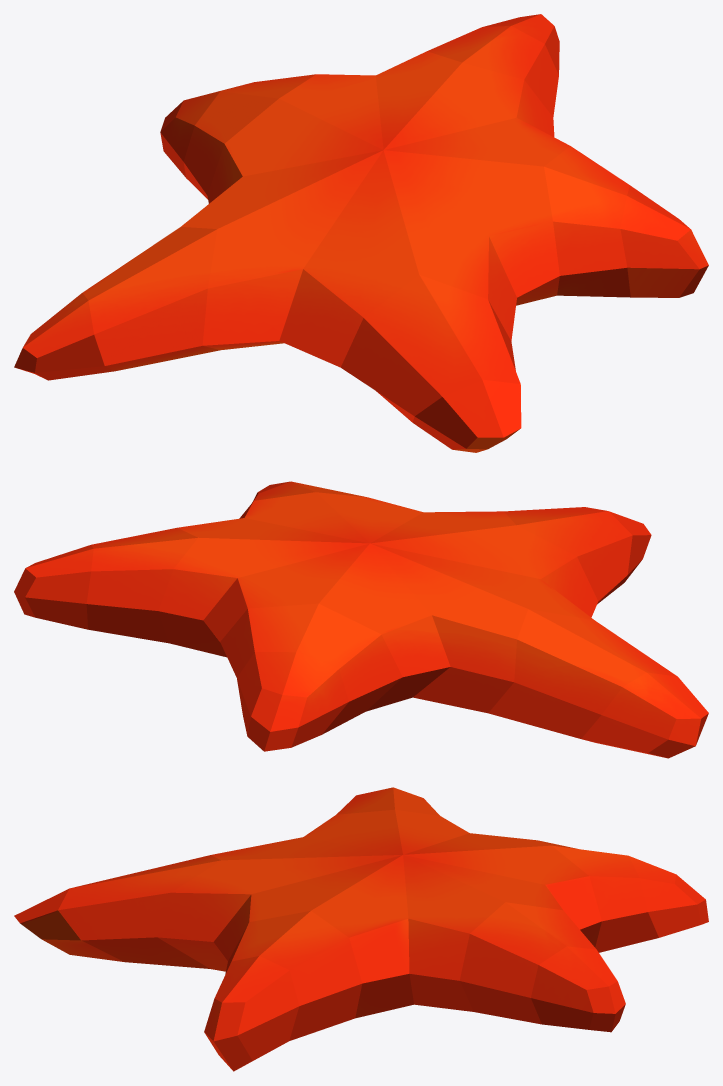
Rendered from starfish2.glb.
3 views of the same model, one above another, from view 1: azimuth 30°, elevation 25°; view 2: azimuth 150°, elevation 25°; view 3: azimuth 270°, elevation 25° (orthographic). The views are drawn at different scales.
Visible parts, largest first — view 1: starfish 2; view 2: starfish 2; view 3: starfish 2.
Part boxes in pixels (box(x1,y1,x2,y2)): starfish 2: box(14, 14, 708, 452); starfish 2: box(14, 481, 708, 758); starfish 2: box(14, 787, 708, 1071).
Bounding box in the file's own units: 3.23 × 0.7928 × 3.28.
1 material, 1 textured.
